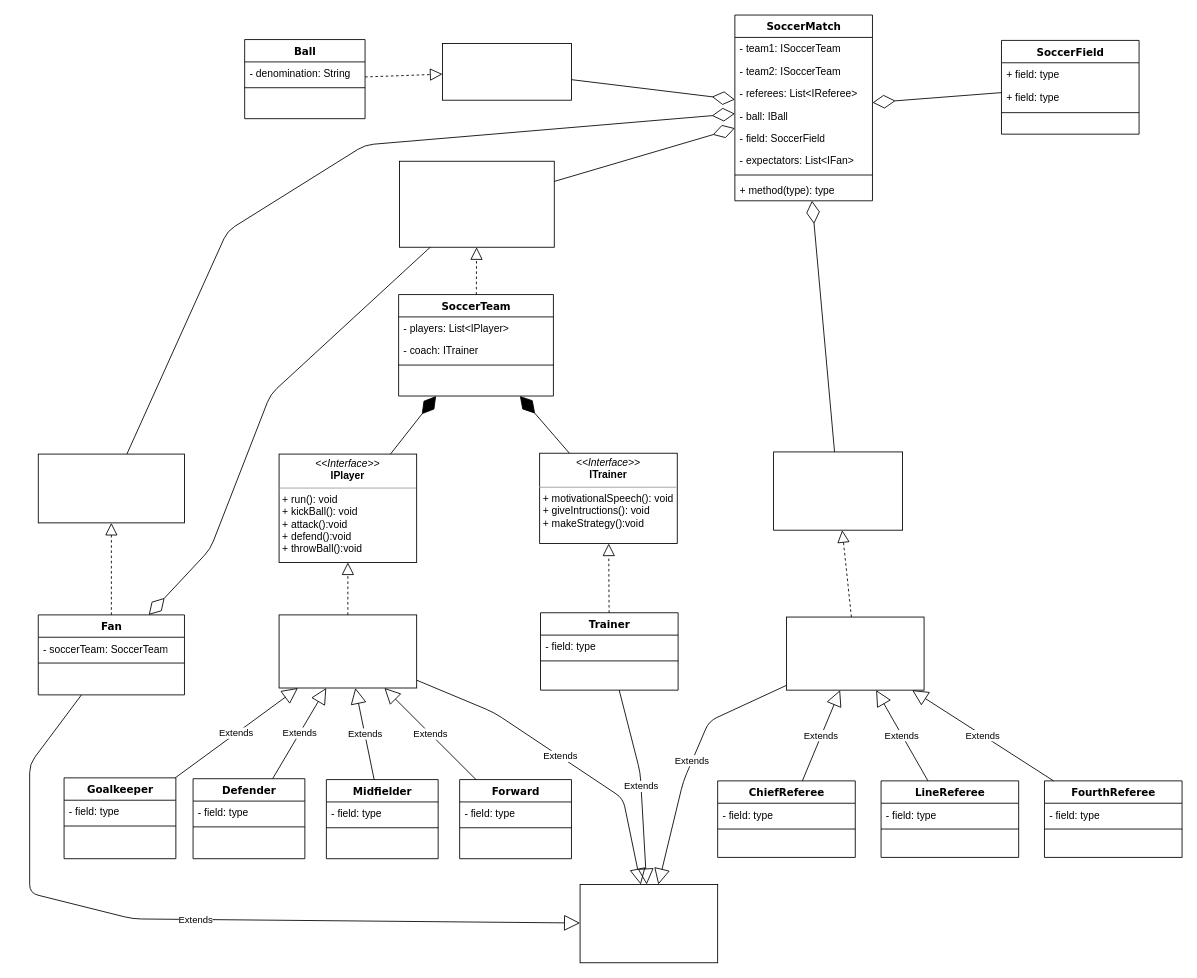
The diagram is 1197 pixels wide and 978 high, and some of its shapes have lost their labels. The shapes that lost their labels are listed below. From the top down, each one's centre as x and y in pixels, then its label:
(506,71): <<Interface>> IBall + roll(): void
(476,203): <<Interface>> ISoccerTeam + train(): void + playMatch(): void + travel():void
(110,488): <<Interface>> IFan + cheer(): void + scream(): void
(838,490): <<Interface>> IReferee + admonish (): void + whistle(): void
(347,651): <<Abstract>> IPlayer - number: int
(855,653): <<Abstract>> Referee - field: type
(648,923): <<Abstract>> Person - name: int - age: int - ID: long
